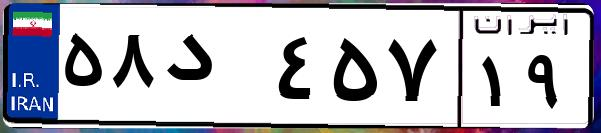1: (475, 38, 525, 113)
4: (270, 28, 330, 110)
5: (330, 28, 385, 110), (57, 26, 110, 100)
7: (385, 28, 445, 110)
8: (110, 28, 158, 98)
9: (525, 38, 570, 115)
د: (158, 20, 270, 120)
